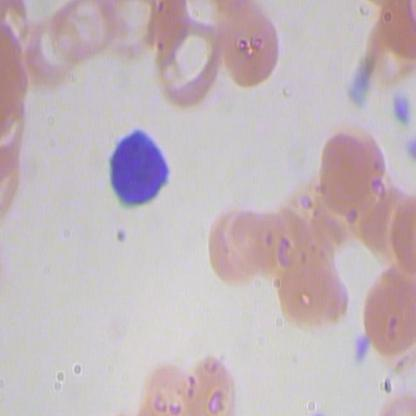Platelets: (391, 91, 412, 127), (348, 330, 369, 366), (402, 133, 415, 169)
RBC: (317, 124, 386, 230), (274, 245, 351, 336), (153, 17, 219, 114), (214, 13, 285, 87), (361, 263, 415, 360), (50, 1, 121, 74), (23, 10, 82, 91), (207, 200, 263, 283), (182, 353, 238, 415), (137, 353, 193, 415)
WBC: (99, 116, 179, 224)
